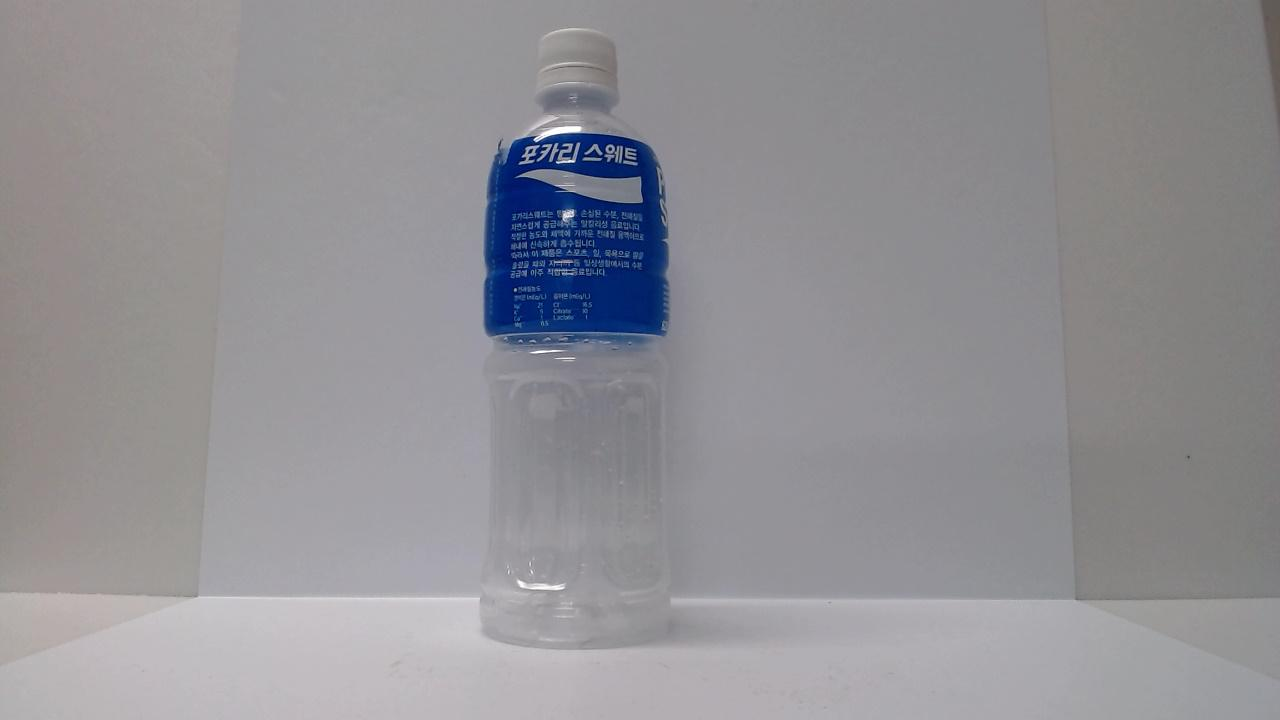bottle: (461, 314, 690, 368)
